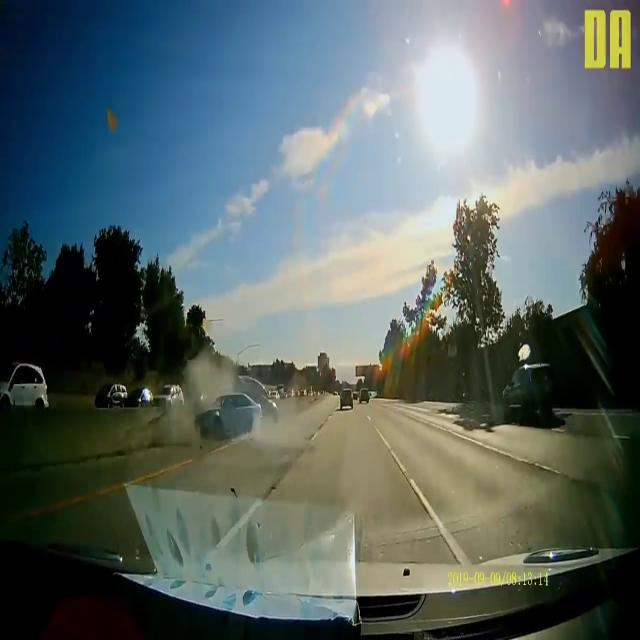multiple_accident: (163, 357, 307, 454)
